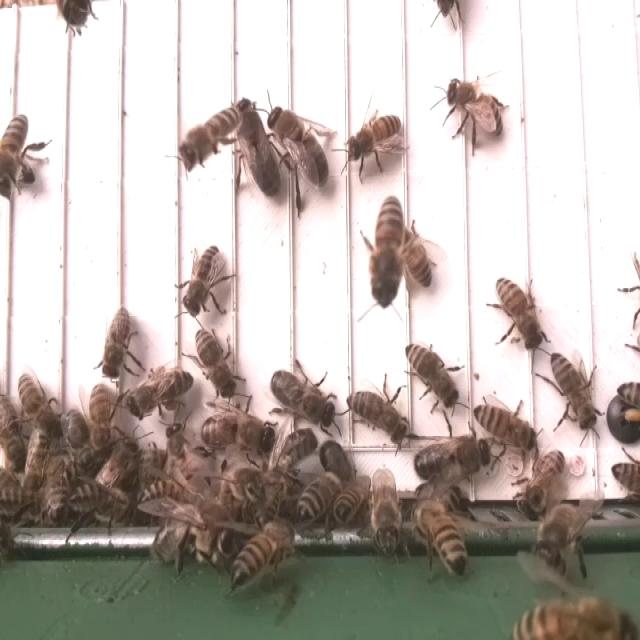Drone: (266, 100, 329, 187), (232, 95, 281, 198), (268, 367, 338, 430), (411, 436, 493, 485), (200, 408, 275, 458)
Worker: (226, 518, 296, 586), (444, 75, 505, 143), (180, 102, 243, 167), (549, 351, 599, 432), (403, 340, 461, 409), (495, 272, 545, 352), (346, 384, 418, 439), (423, 496, 470, 574), (127, 366, 194, 420), (373, 191, 403, 304), (16, 368, 62, 440), (194, 324, 237, 401), (181, 243, 223, 319), (474, 403, 541, 450), (520, 449, 566, 514), (346, 114, 404, 164), (0, 110, 30, 193), (99, 304, 131, 379), (399, 222, 433, 292), (86, 380, 113, 457)
